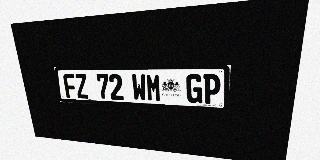2: (108, 74, 124, 100)
7: (95, 74, 111, 100)
F: (63, 74, 77, 98)
G: (186, 74, 203, 103)
M: (146, 74, 161, 102)
P: (203, 74, 221, 104)
W: (131, 74, 147, 101)
Z: (74, 74, 89, 99)
